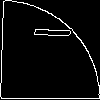I: (25, 24, 72, 41)
